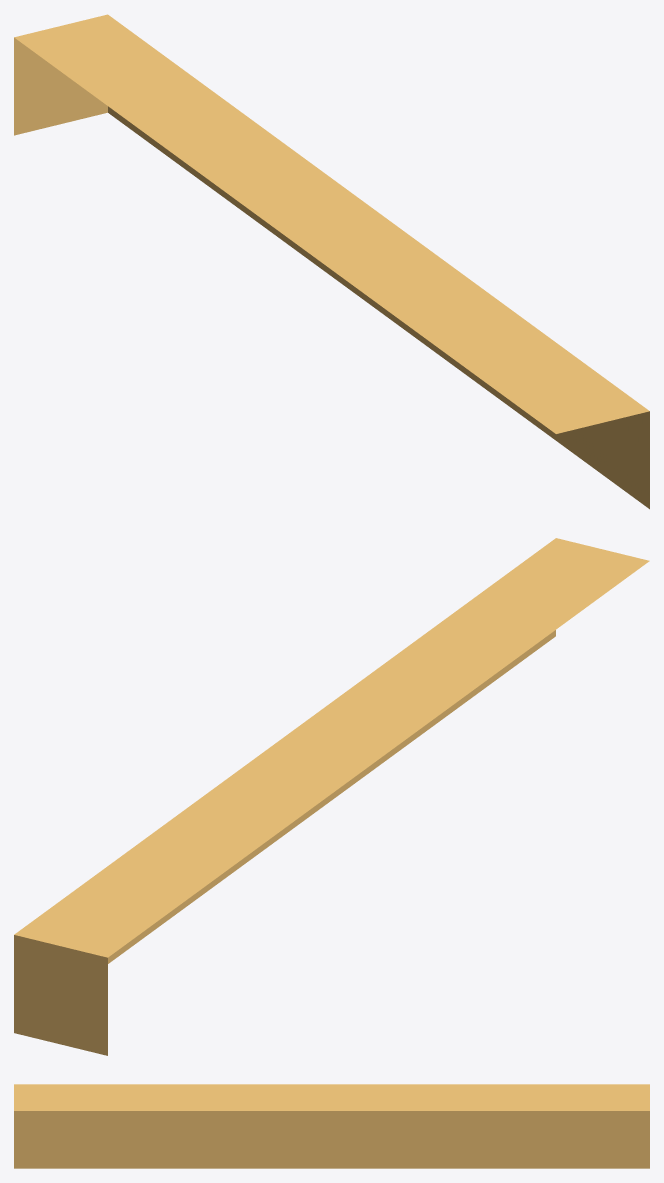
3 views of the same model, one above another, from view 1: azimuth 30°, elevation 25°; view 2: azimuth 150°, elevation 25°; view 3: azimuth 270°, elevation 25° (orthographic). The views are drawn at different scales.
Size of the model in its own units: 0.1 by 0.1 by 1.
